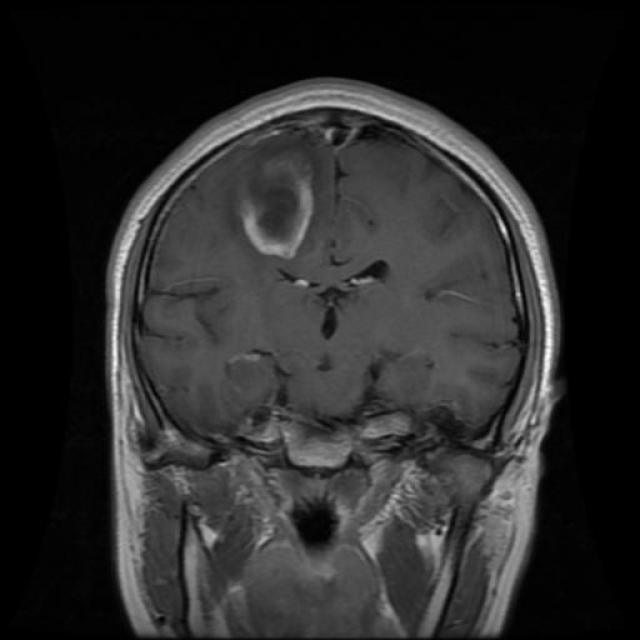glioma: (218, 154, 326, 268)
